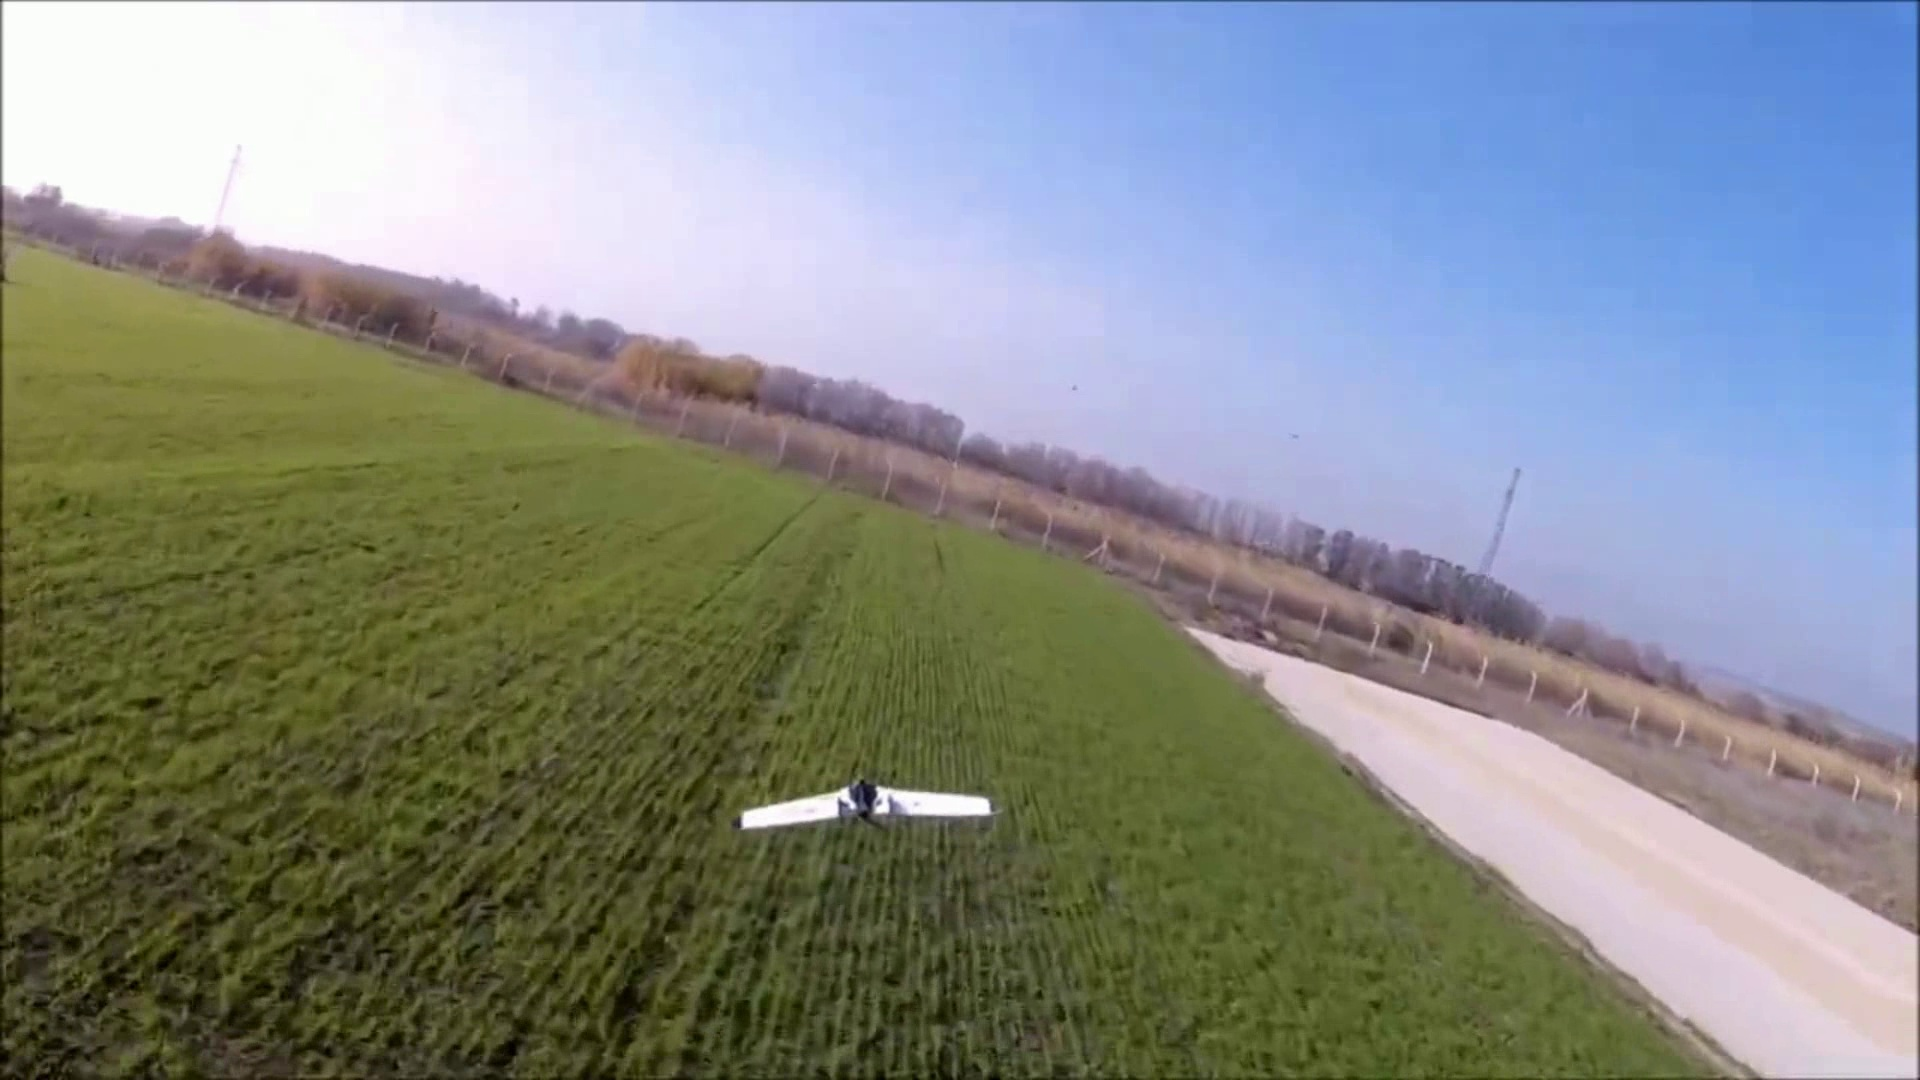airplane: (736, 769, 996, 829)
